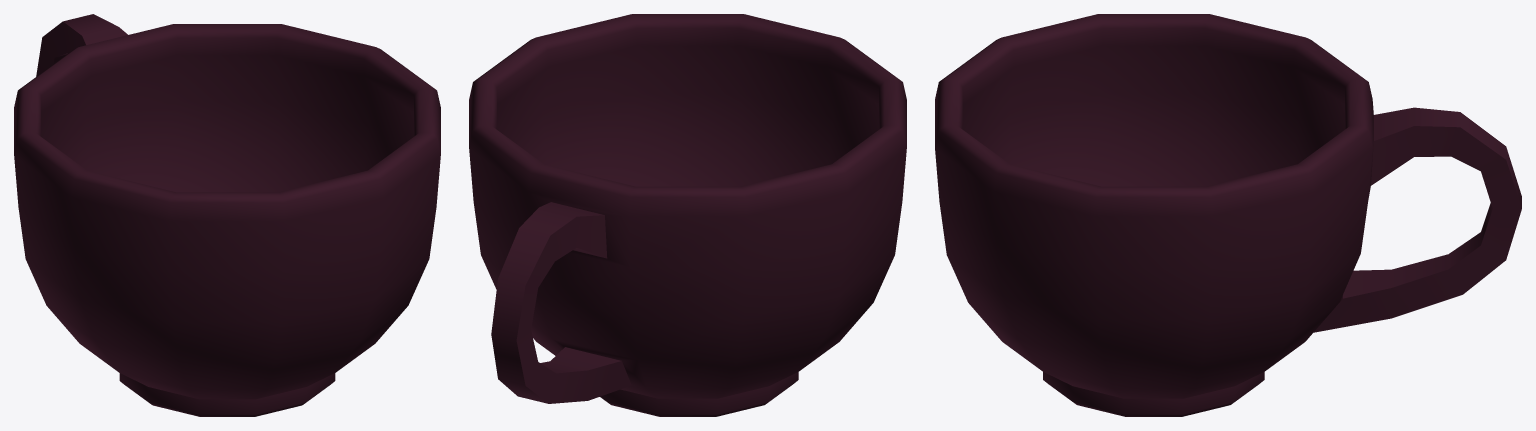
The model's file is cup.fbx.
3 renders of one model, left to right at view 1: azimuth 30°, elevation 25°; view 2: azimuth 150°, elevation 25°; view 3: azimuth 270°, elevation 25°, orthographic. The views are drawn at different scales.
Visible parts, largest first — view 1: pTorus4; view 2: pTorus4; view 3: pTorus4.
Part boxes in pixels (x1,y1,x2,y2): pTorus4: (14,14,440,416); pTorus4: (469,14,906,416); pTorus4: (935,14,1521,416).
Size of the model in its own units: 1.91 by 1.3 by 2.56.
